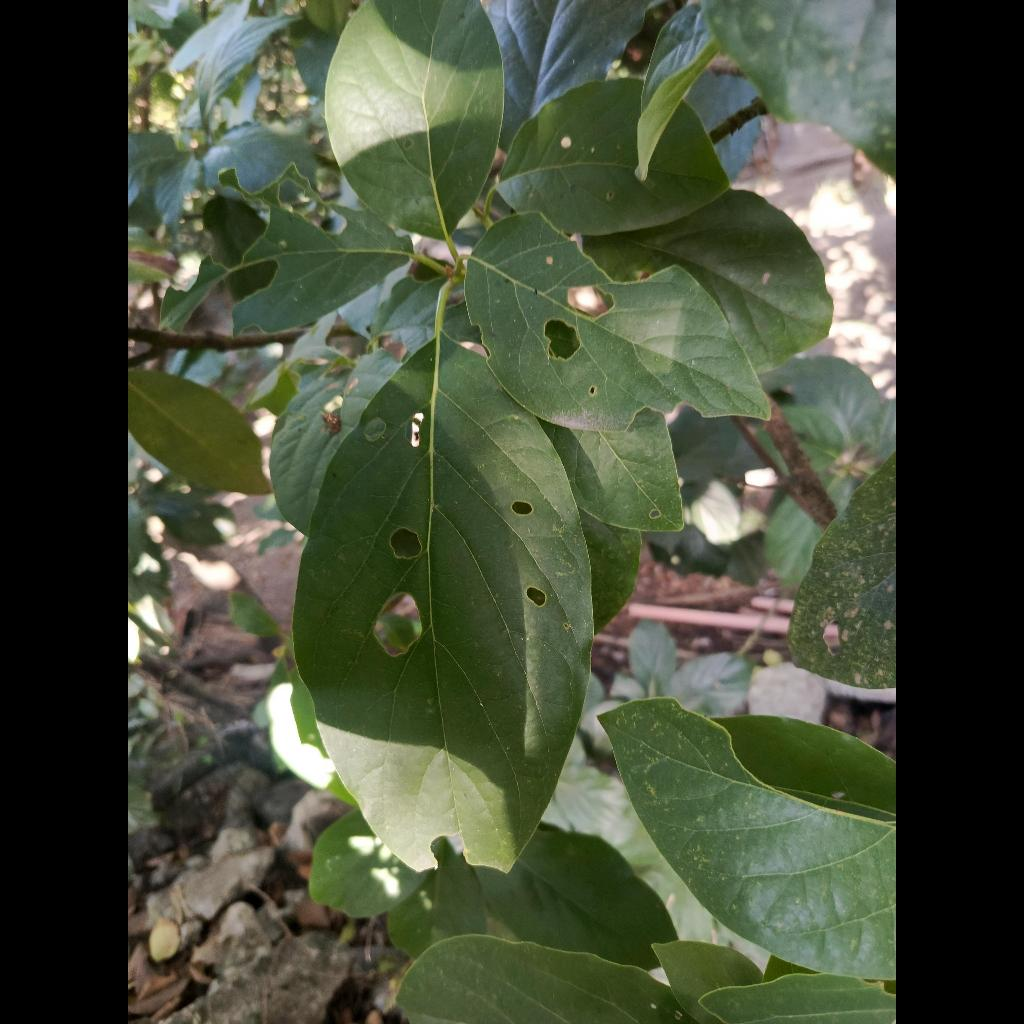plaga: (294, 332, 593, 871), (464, 212, 767, 431)
